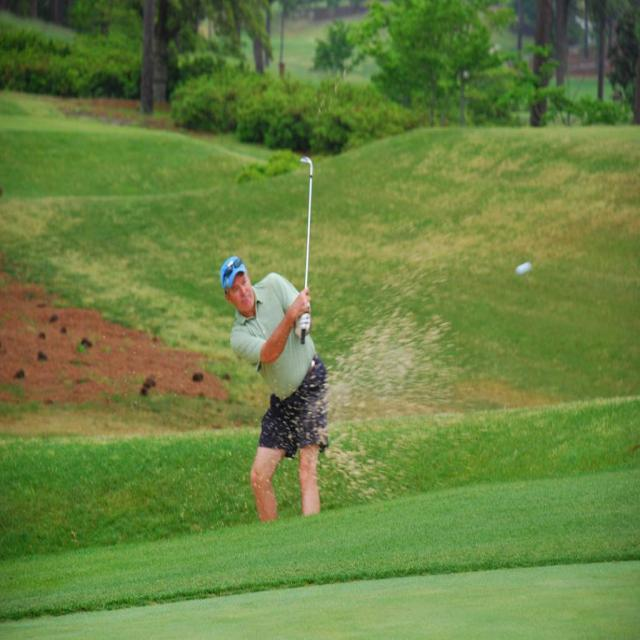ClubHead: (294, 147, 320, 186)
GolfBall: (508, 256, 536, 282)
